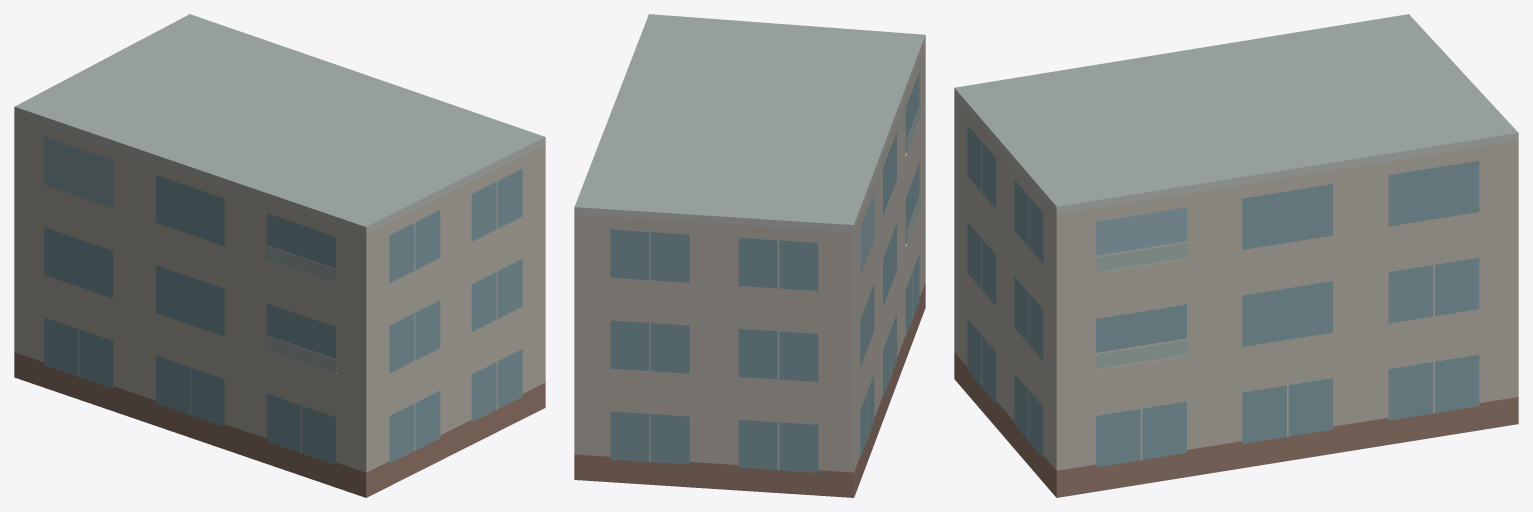
File: survey-upis-32866802.glb
3 views of the same model, side by side, from view 1: azimuth 30°, elevation 25°; view 2: azimuth 150°, elevation 25°; view 3: azimuth 270°, elevation 25° (orthographic). The views are drawn at different scales.
Visible parts, largest first — view 1: survey-upis-32866802.tmp; view 2: survey-upis-32866802.tmp; view 3: survey-upis-32866802.tmp.
Part boxes in pixels (box(x1,y1,x2,y2)): survey-upis-32866802.tmp: box(14, 14, 545, 497); survey-upis-32866802.tmp: box(574, 14, 925, 497); survey-upis-32866802.tmp: box(954, 14, 1518, 497).
Bounding box in the file's own units: 13 × 9.15 × 16.08.
